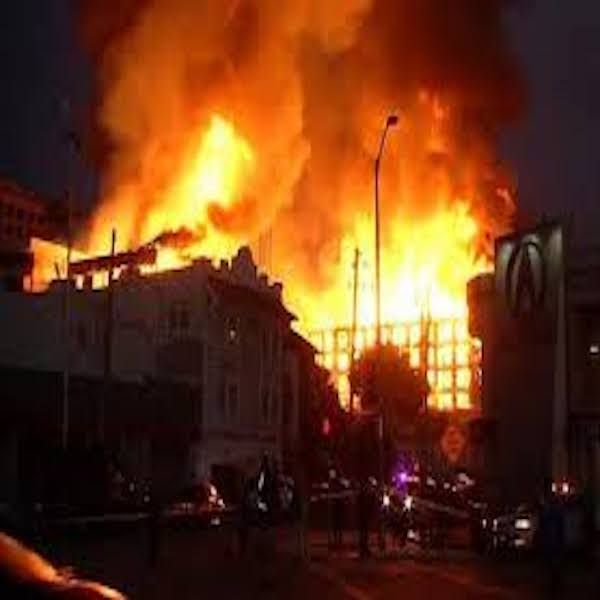fire: (103, 77, 357, 266), (383, 170, 477, 370)
